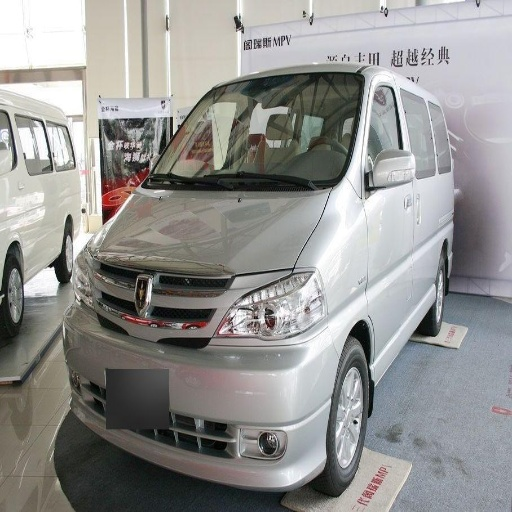front_bumper: (67, 267, 345, 487)
front_glass: (143, 74, 362, 187)
front_left_door: (362, 78, 414, 353)
